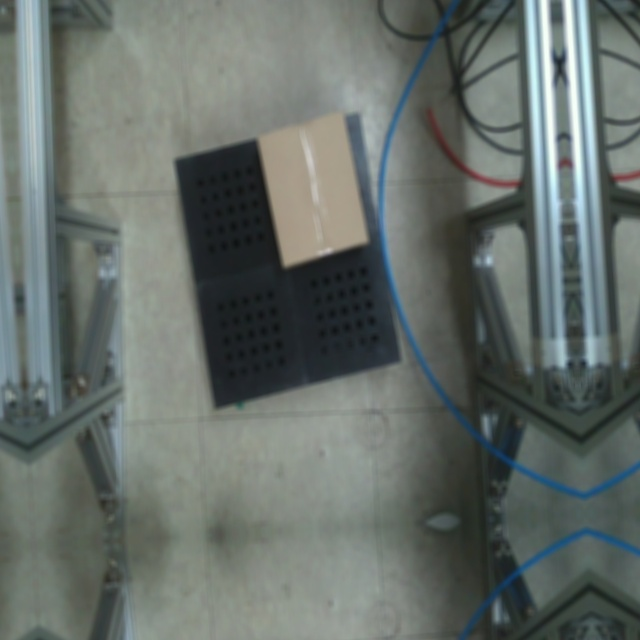box: (254, 108, 371, 270)
pallet: (170, 108, 405, 413)
